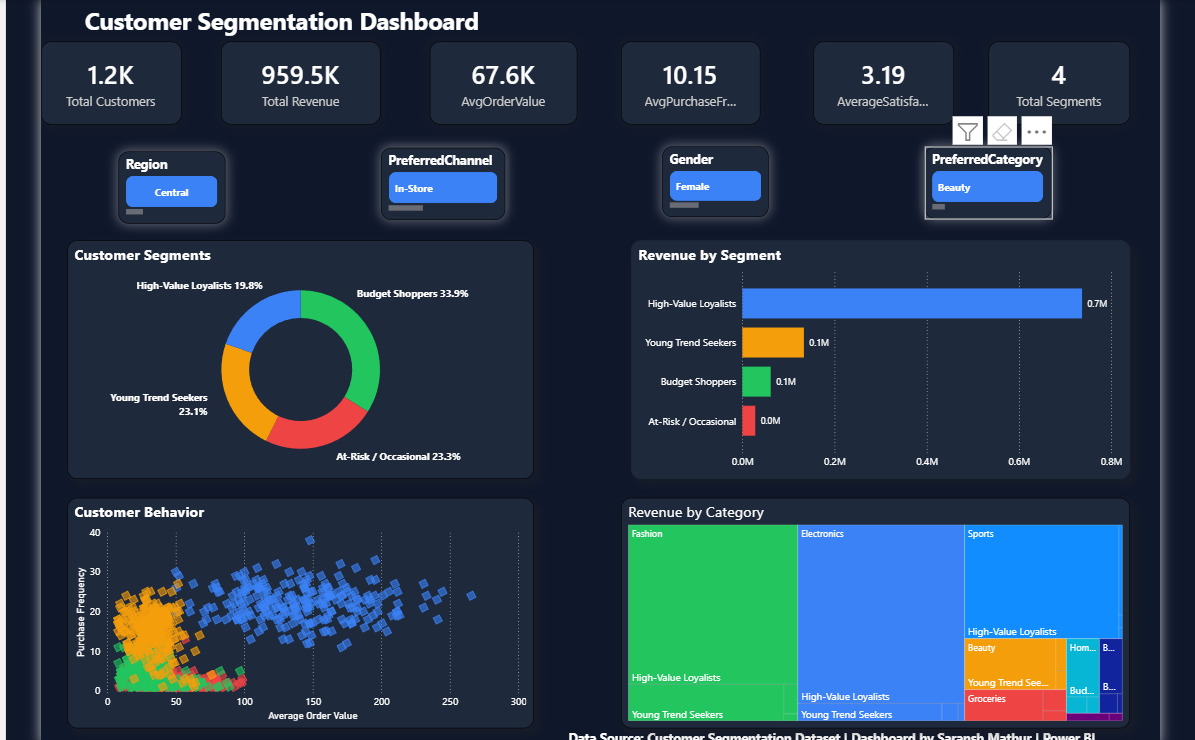

The page's visual inventory and layout, read from the dashboard file:
{"tool":"powerbi","page":{"name":"Customer Segmentation Dashboard","canvas":[1650,1100],"ordinal":0},"visuals":[{"type":"cardVisual","fields":{"Data":["Customers.Total Customers"]},"box":[0,62,206.9,122.1],"z":0},{"type":"cardVisual","fields":{"Data":["Customers.Total Revenue"]},"box":[266,62,235.2,122.1],"z":1000},{"type":"cardVisual","fields":{"Data":["Sum(Customers.AvgOrderValue)"]},"box":[574,62,217.4,122.1],"z":2000},{"type":"cardVisual","fields":{"Data":["Customers.Average Purchase Frequency"]},"box":[856,62,205.4,122.1],"z":3000},{"type":"cardVisual","fields":{"Data":["Customers.Average Satisfaction"]},"box":[1140,62,206.9,122.1],"z":4000},{"type":"cardVisual","fields":{"Data":["Customers.Total Segments"]},"box":[1398,62,208.4,122.1],"z":5000},{"type":"advancedSlicerVisual","fields":{"Values":["Customers.Region"]},"box":[114,224,157.3,106.2],"z":6000},{"type":"advancedSlicerVisual","fields":{"Values":["Customers.PreferredChannel"]},"box":[502.3,220,182.9,106.2],"z":7000},{"type":"advancedSlicerVisual","fields":{"Values":["Customers.PreferredCategory"]},"box":[1304,218,186.9,106.2],"z":8000},{"type":"advancedSlicerVisual","fields":{"Values":["Customers.Gender"]},"box":[916.1,218,157,104],"z":9000},{"type":"donutChart","title":"Customer Segments","fields":{"Category":["Customers.SegmentName"],"Y":["CountNonNull(Customers.CustomerID)"]},"box":[38,356,688,352],"z":10000},{"type":"clusteredBarChart","title":"Revenue by Segment","fields":{"Category":["Customers.SegmentName"],"Y":["Customers.Total Revenue"]},"box":[870,356,736,352],"z":11000},{"type":"scatterChart","title":"Customer Behavior","fields":{"X":["Customers.Average Order Value"],"Y":["Sum(Customers.PurchaseFrequency)"],"Series":["Customers.SegmentName"],"Category":["Customers.CustomerID"]},"box":[38,736,688,340],"z":12000},{"type":"shape","box":[64,0,662,62],"z":13000},{"type":"shape","box":[726,1076,880,24],"z":14000},{"type":"treemap","title":"Revenue by Category","fields":{"Values":["Customers.Total Revenue"],"Group":["Customers.PreferredCategory"],"Details":["Customers.SegmentName"]},"box":[856,736,750,340],"z":15000}]}

Visuals, with their boxes on the page's 1650x1100 design canvas (x1, y1, x2, y2). These are canvas units, not pixel positions in the 1195x740 screenshot, which may show the page scaled, cropped or inside an application window:
cardVisual - Customers.Total Customers: 0,62,207,184
cardVisual - Customers.Total Revenue: 266,62,501,184
cardVisual - Sum(Customers.AvgOrderValue): 574,62,791,184
cardVisual - Customers.Average Purchase Frequency: 856,62,1061,184
cardVisual - Customers.Average Satisfaction: 1140,62,1347,184
cardVisual - Customers.Total Segments: 1398,62,1606,184
advancedSlicerVisual - Customers.Region: 114,224,271,330
advancedSlicerVisual - Customers.PreferredChannel: 502,220,685,326
advancedSlicerVisual - Customers.PreferredCategory: 1304,218,1491,324
advancedSlicerVisual - Customers.Gender: 916,218,1073,322
"Customer Segments" donutChart: 38,356,726,708
"Revenue by Segment" clusteredBarChart: 870,356,1606,708
"Customer Behavior" scatterChart: 38,736,726,1076
shape: 64,0,726,62
shape: 726,1076,1606,1100
"Revenue by Category" treemap: 856,736,1606,1076
